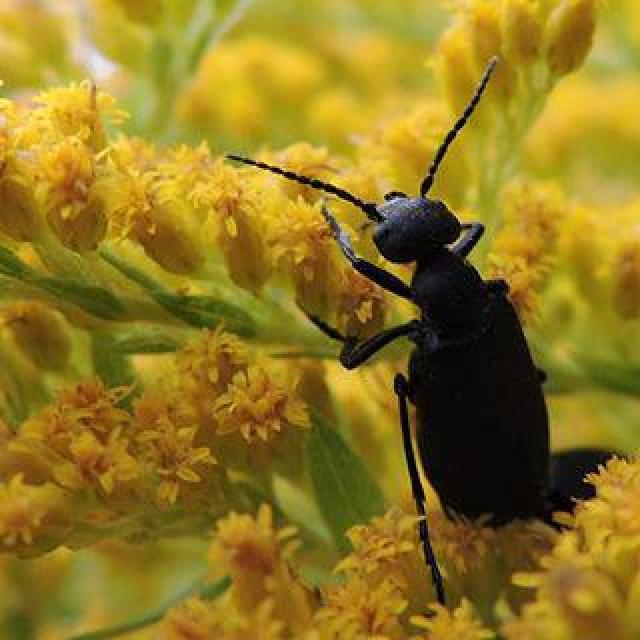BlisterBeetle-Adult-: (197, 52, 580, 584)
